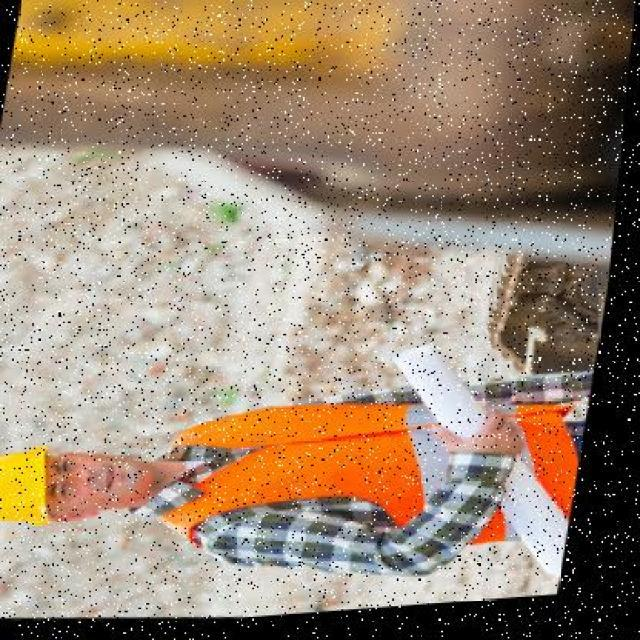helmet: (0, 429, 74, 538)
vest: (146, 374, 600, 581)
